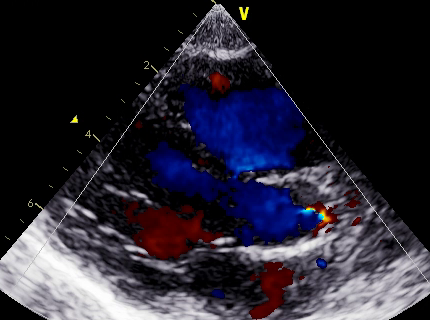AR: (294, 194, 346, 239)
